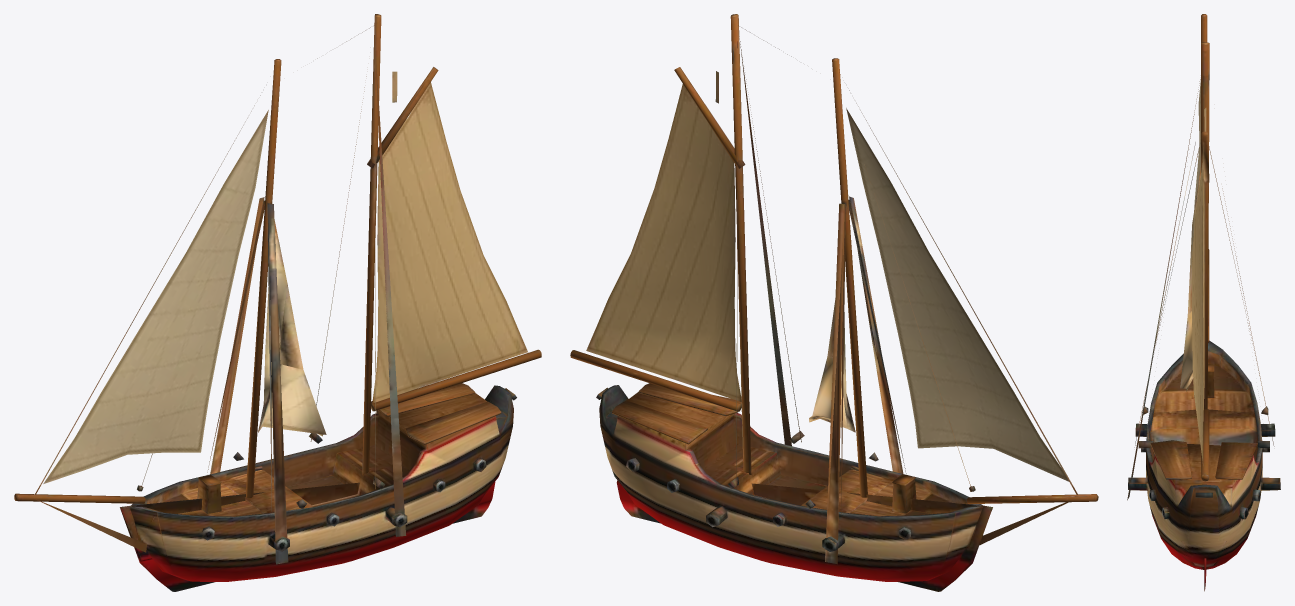
File: ketch.glb
The picture shows the model from 3 angles, left to right: view 1: azimuth 30°, elevation 25°; view 2: azimuth 150°, elevation 25°; view 3: azimuth 270°, elevation 25°; orthographic projection. The views are drawn at different scales.
Size of the model in its own units: 0.9614 by 0.9248 by 0.2564.
1 material, 1 textured.
